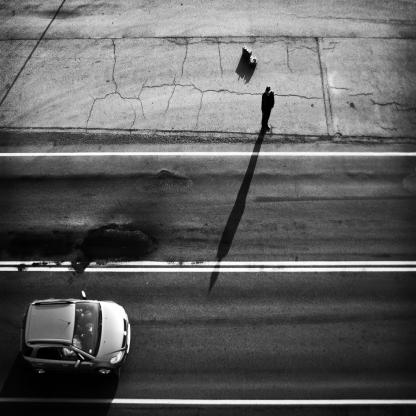Car: (21, 290, 131, 376)
